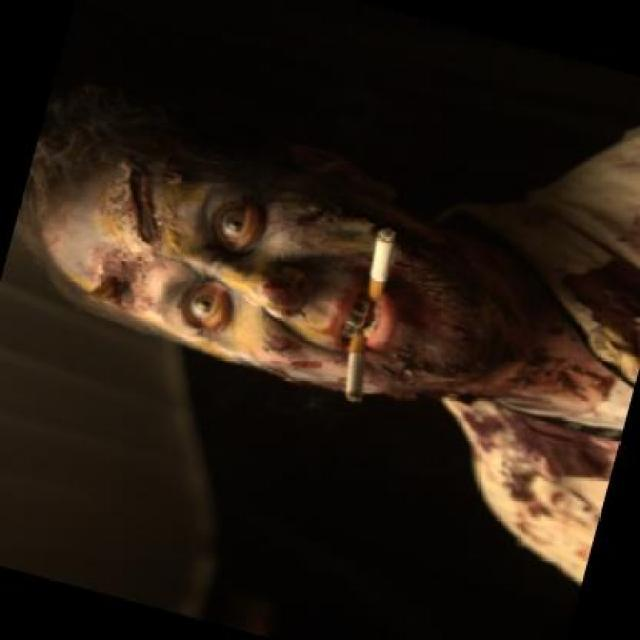cigarette: (332, 327, 381, 404), (356, 220, 402, 302)
